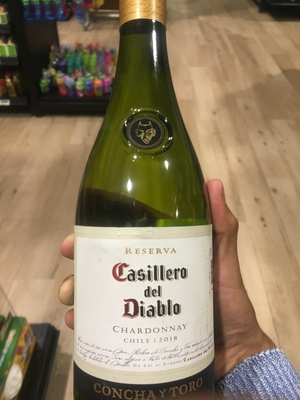casillero del diablo chardonnay: (67, 15, 228, 400)
